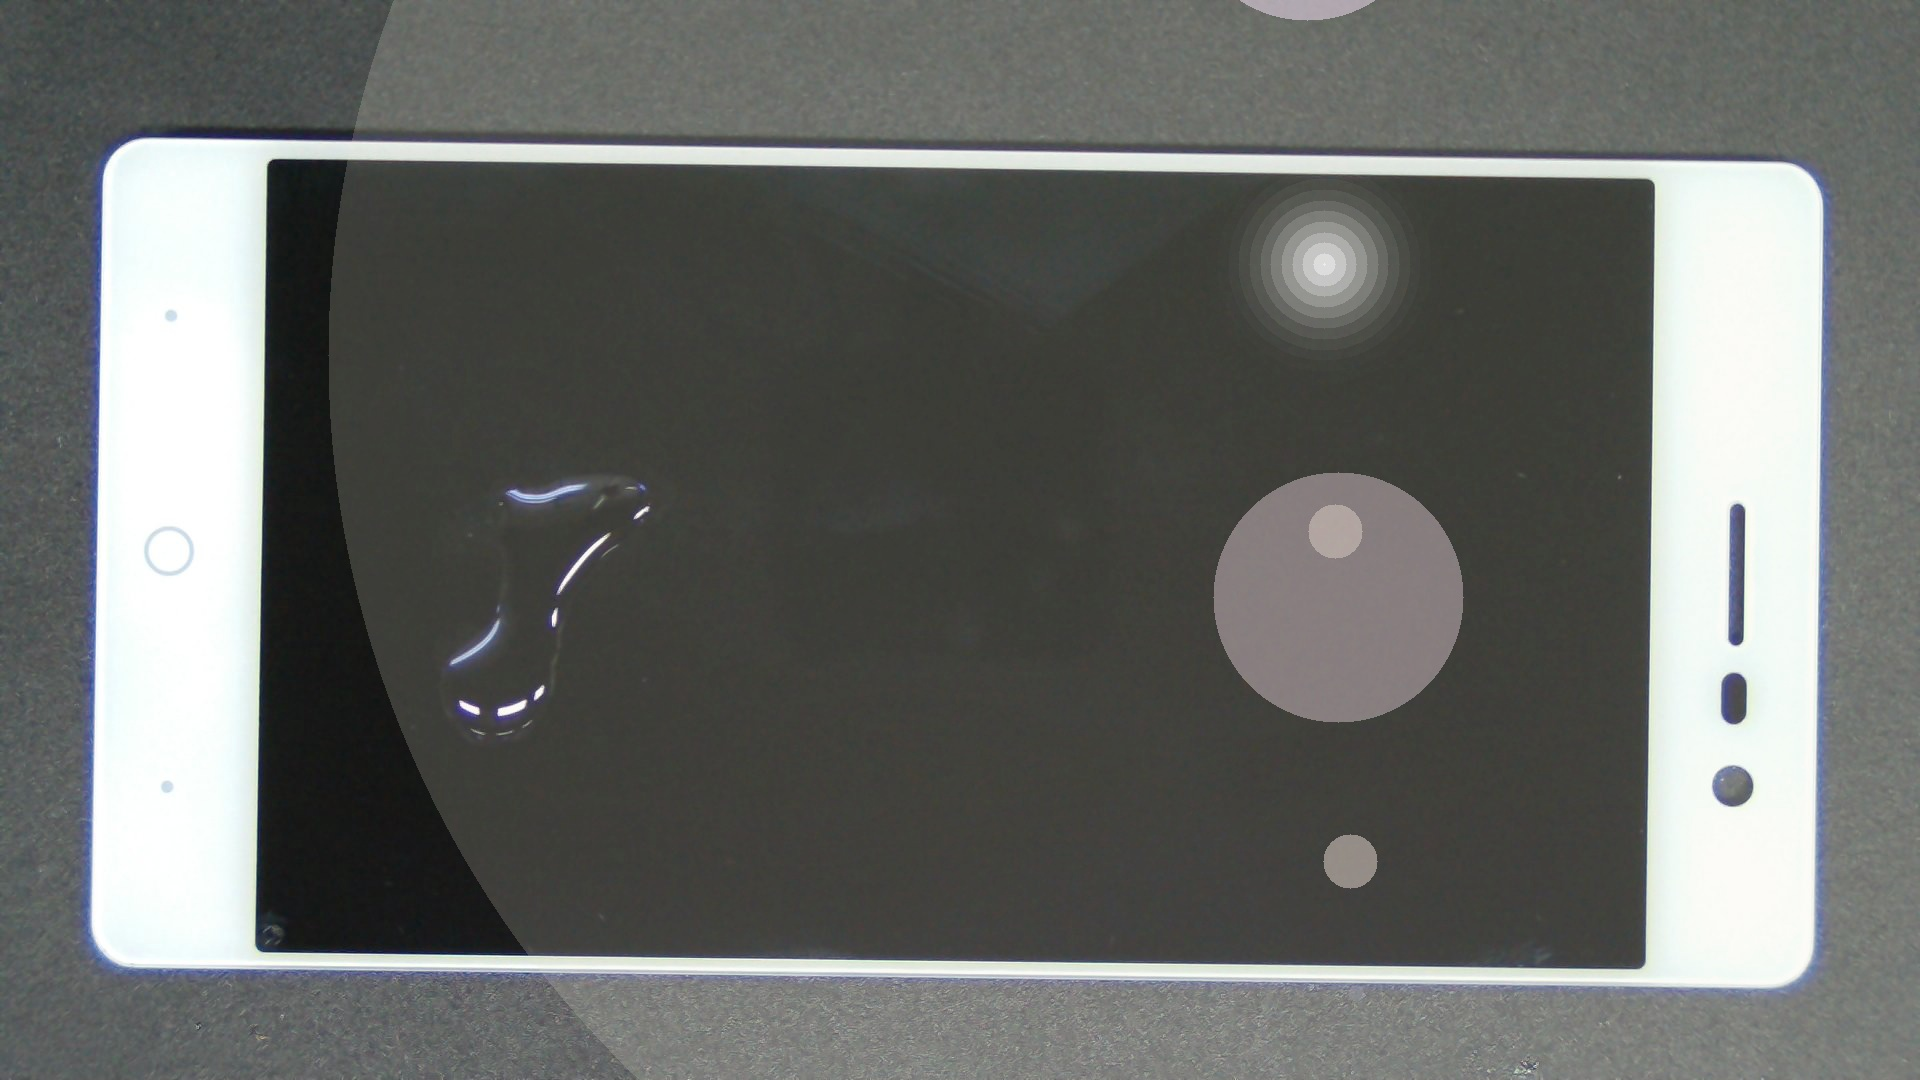oil: (295, 236, 884, 712)
